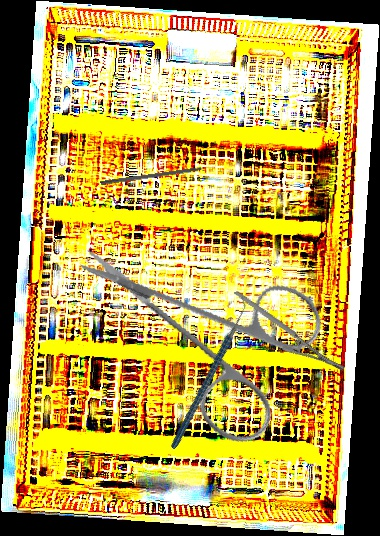Chopper: (128, 292, 288, 450)
Hook Surgical: (100, 164, 217, 187)
Iris Scissors: (76, 197, 346, 472)
Needle Holder: (233, 264, 347, 397)
